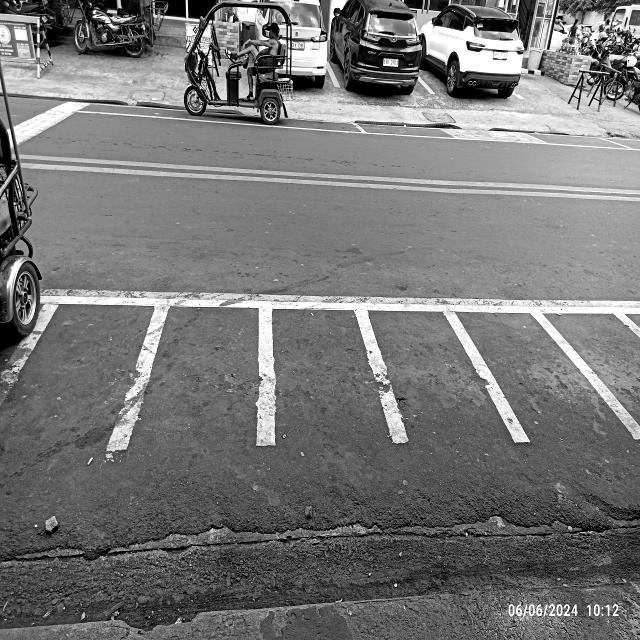vacant: (410, 249, 640, 494), (316, 249, 533, 506), (0, 251, 173, 458), (100, 285, 276, 463), (257, 289, 412, 449)
